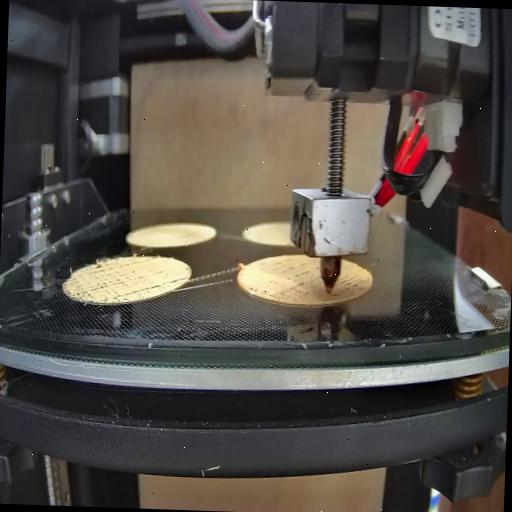under_extrusion: (70, 260, 162, 302), (274, 256, 312, 304), (330, 272, 368, 297), (244, 280, 262, 299), (168, 271, 186, 288)
